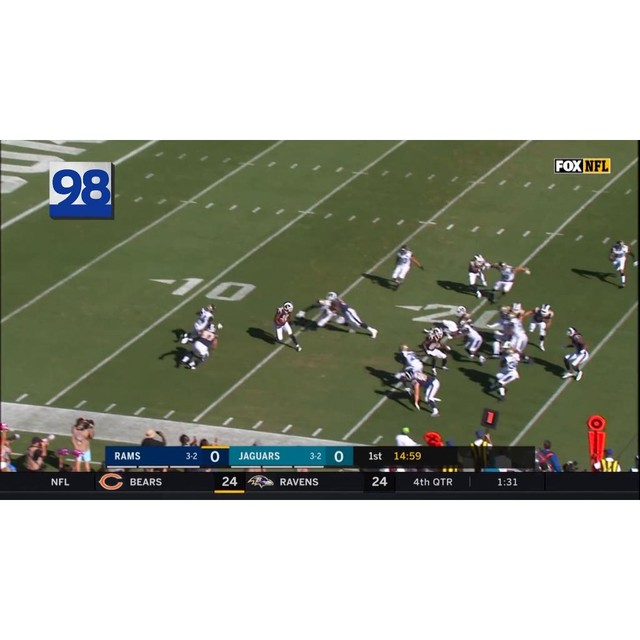american-football-player: (328, 291, 378, 339), (299, 292, 349, 332), (405, 366, 442, 417), (488, 348, 524, 400), (485, 260, 528, 303), (559, 326, 589, 382), (388, 243, 423, 290), (178, 304, 217, 344), (523, 302, 554, 351), (271, 302, 302, 351), (421, 326, 450, 373), (457, 320, 485, 365), (607, 239, 632, 288), (466, 253, 492, 299), (393, 343, 424, 379), (507, 313, 530, 359)
